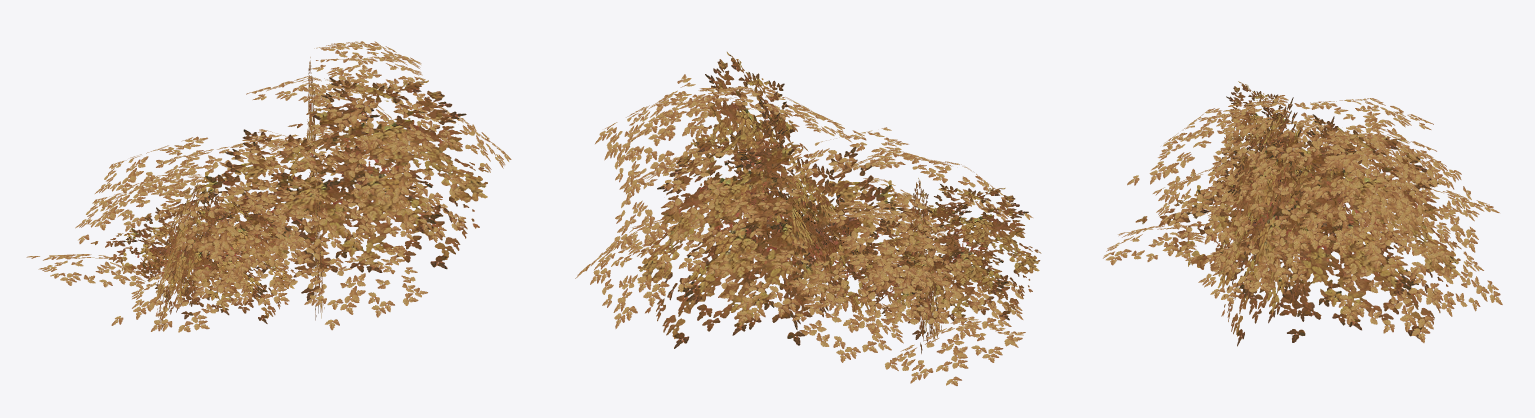
The model's file is decd_saplingclump_lg_a1_l1.fbx.
The picture shows the model from 3 angles, left to right: view 1: azimuth 30°, elevation 25°; view 2: azimuth 150°, elevation 25°; view 3: azimuth 270°, elevation 25°; orthographic projection. The views are drawn at different scales.
Visible parts, largest first — view 1: mesh_node; view 2: mesh_node; view 3: mesh_node.
Part boxes in pixels (<box>): mesh_node: <box>26,41,511,332</box>; mesh_node: <box>575,52,1041,385</box>; mesh_node: <box>1103,81,1502,346</box>.
Bounding box in the file's own units: 5.88 × 3.19 × 4.79.
